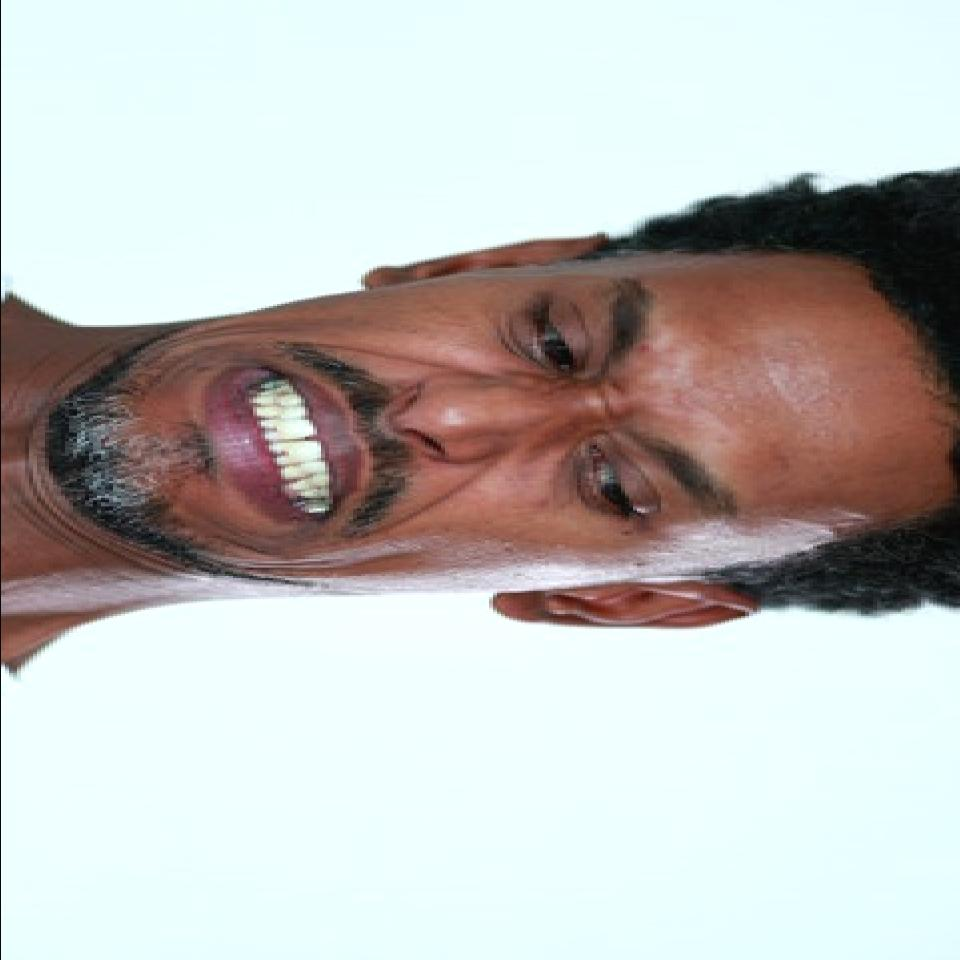Disgust: (49, 256, 920, 596)
